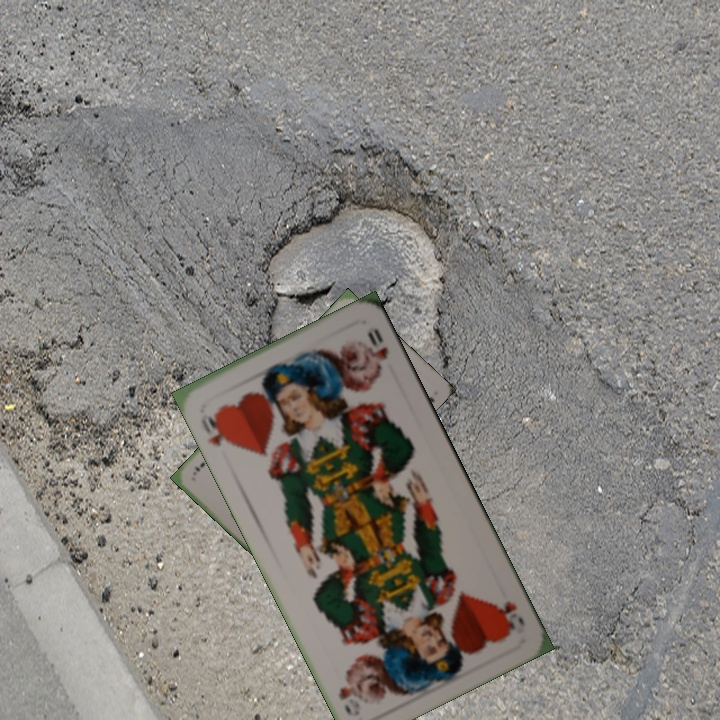HO: (197, 409, 235, 449), (492, 596, 528, 638)
